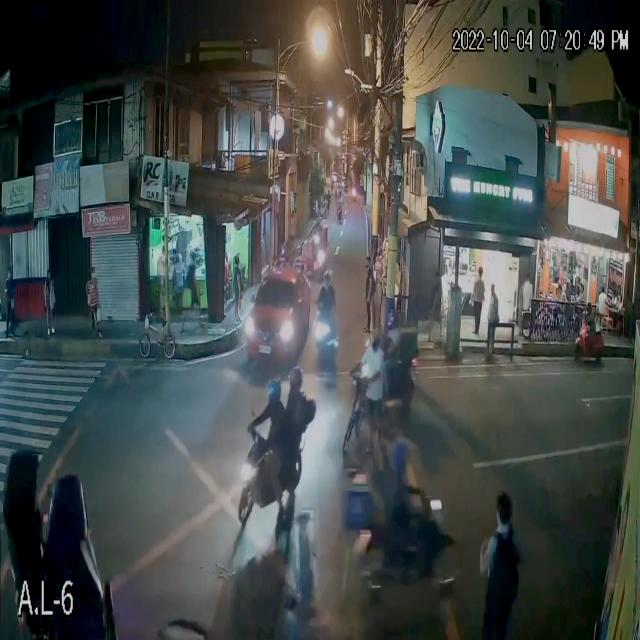Full-Faced: (284, 364, 306, 393), (266, 374, 283, 406), (319, 265, 335, 289)
